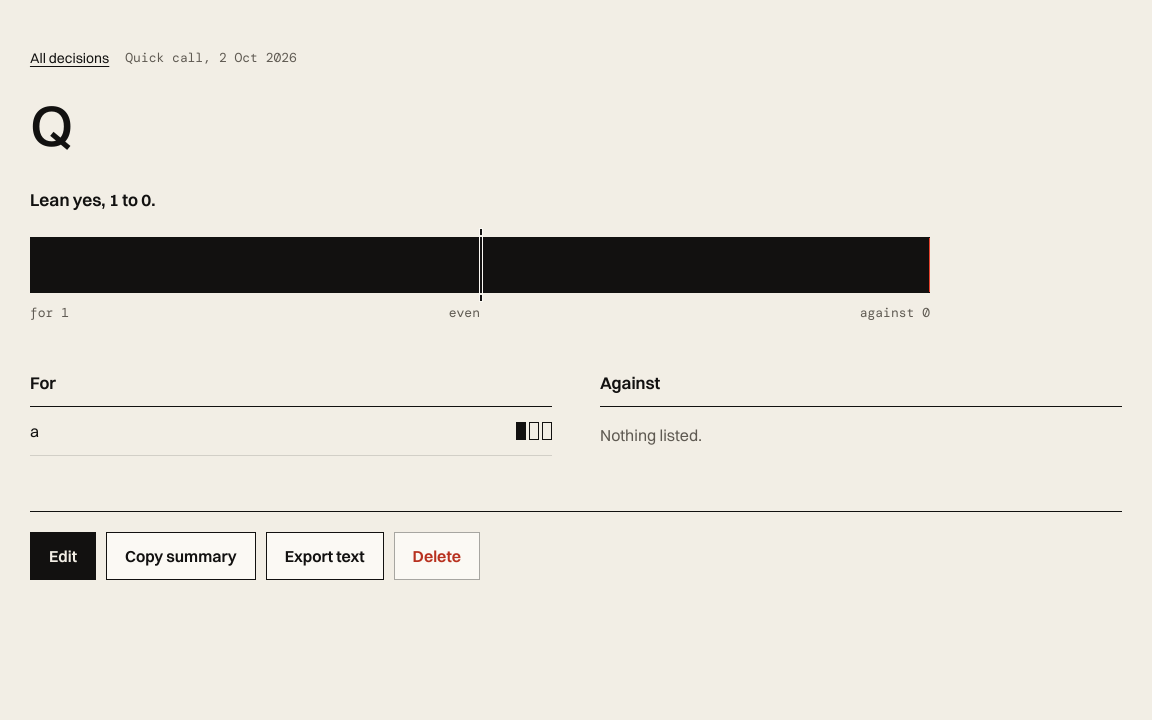
detail board › reports clipboard failure instead of failing silently
Expected: the heading "Q" is shown, [30,90,71,160]
Click the button "Copy summary" at (181, 556), box [106,532,256,580]
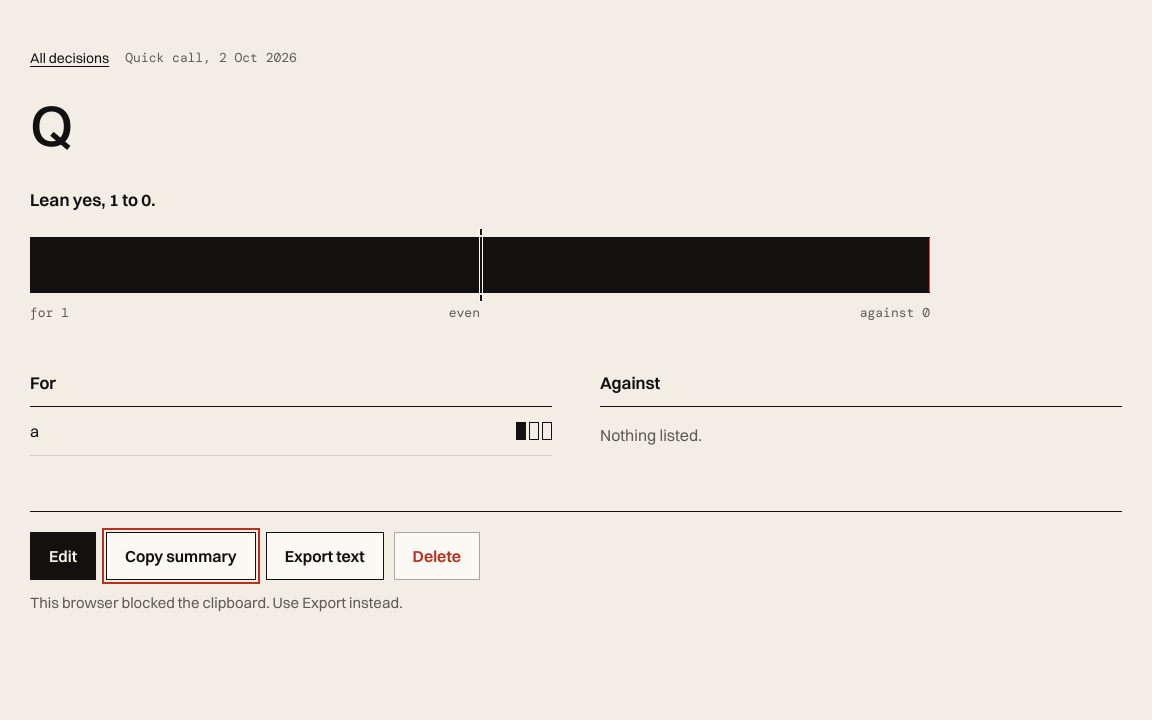
Expected: the message shows "blocked the clipboard", [30,593,402,612]
